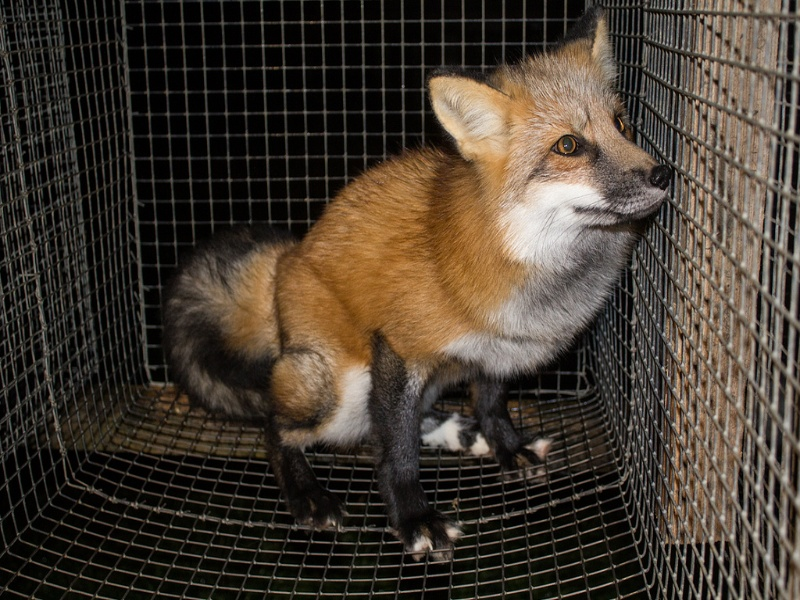fox: (156, 14, 689, 564)
